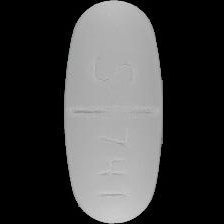67253-741: (0, 0, 224, 224)
